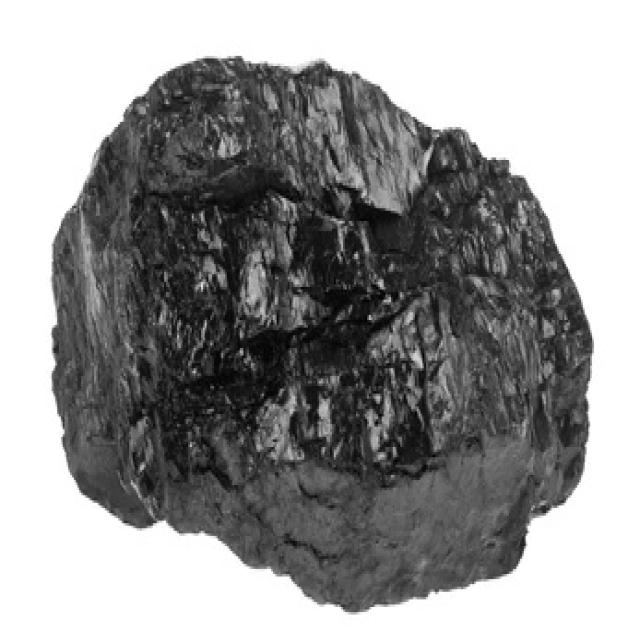Sedimentary: (51, 56, 600, 612)
